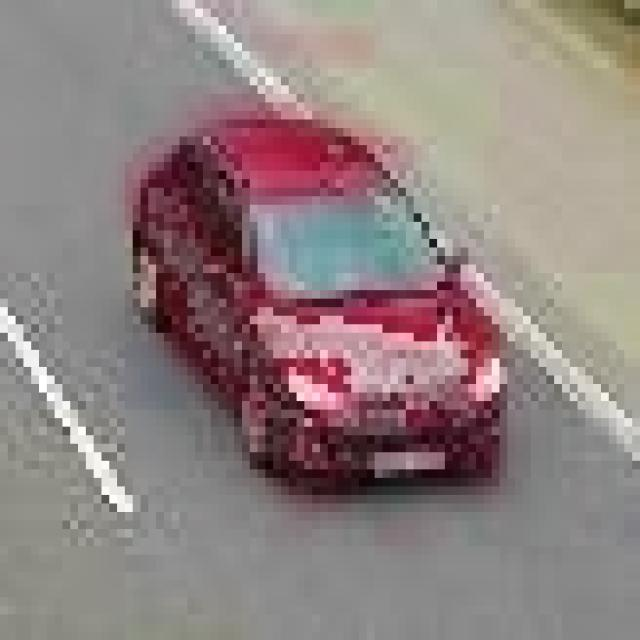maroon: (133, 120, 507, 487)
